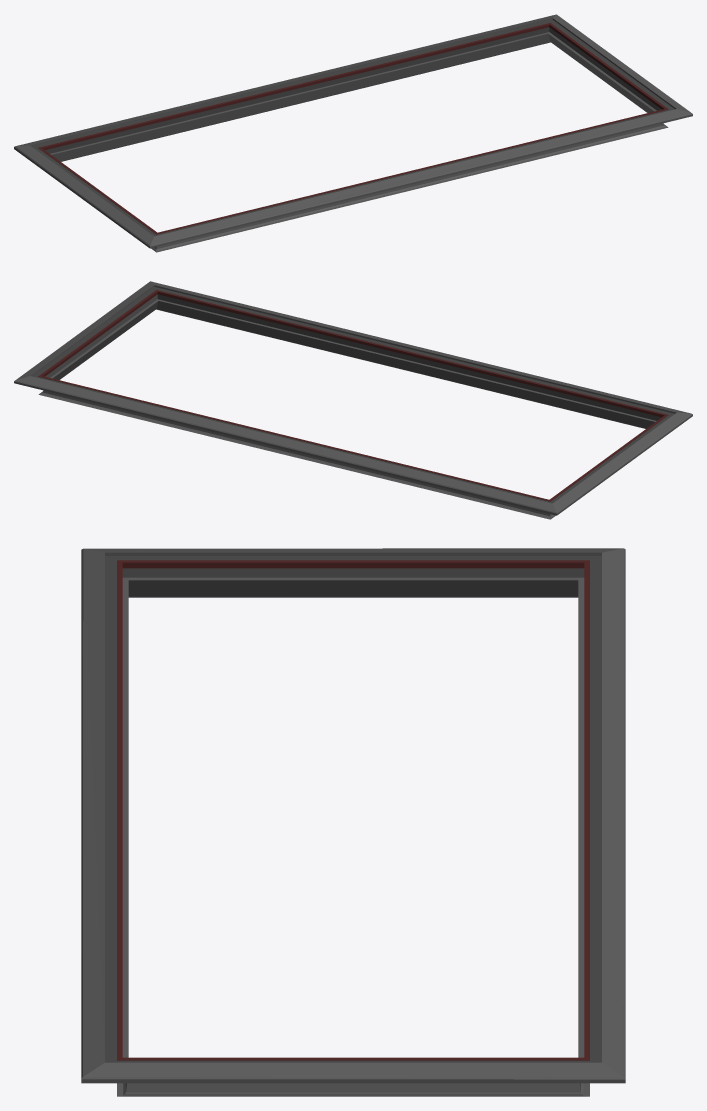
Rendered from Cover_02.fbx.
The picture shows the model from 3 angles, top to bottom: view 1: azimuth 30°, elevation 25°; view 2: azimuth 150°, elevation 25°; view 3: azimuth 270°, elevation 25°; orthographic projection. The views are drawn at different scales.
Parts seen in each view (by area): view 1: Room_Cover_02; view 2: Room_Cover_02; view 3: Room_Cover_02.
Part boxes in pixels (left/top/right/bottom): Room_Cover_02: left=14, top=14, right=692, bottom=252; Room_Cover_02: left=14, top=281, right=692, bottom=519; Room_Cover_02: left=81, top=548, right=625, bottom=1096.
Size of the model in its own units: 1060 by 36.5 by 460.
1 material, 1 textured.
